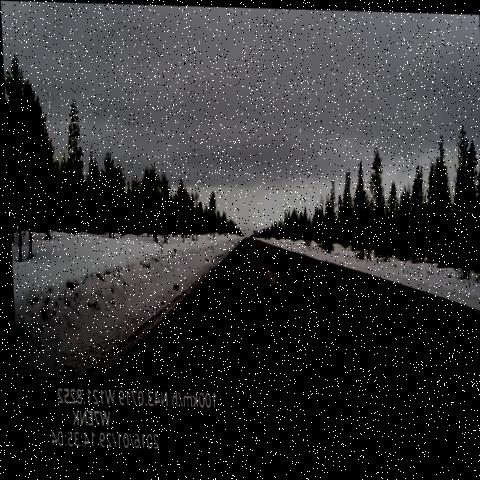pothole: (371, 371, 415, 414), (276, 271, 304, 306), (256, 249, 277, 278), (234, 284, 255, 310), (250, 333, 271, 347), (246, 236, 261, 254)
